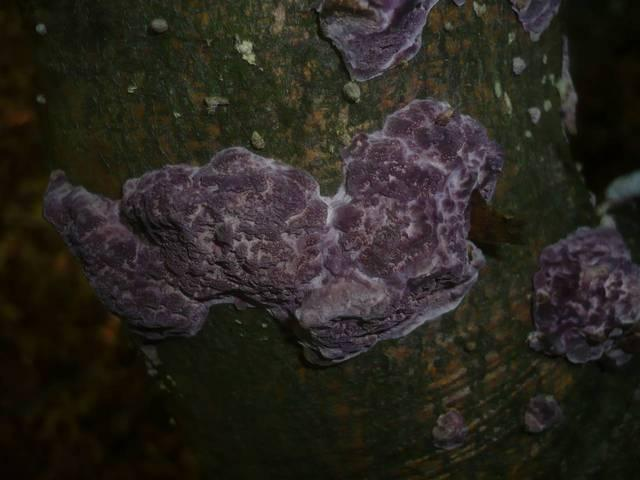Non-edible Mushroom: (41, 96, 504, 367), (525, 223, 639, 367)
